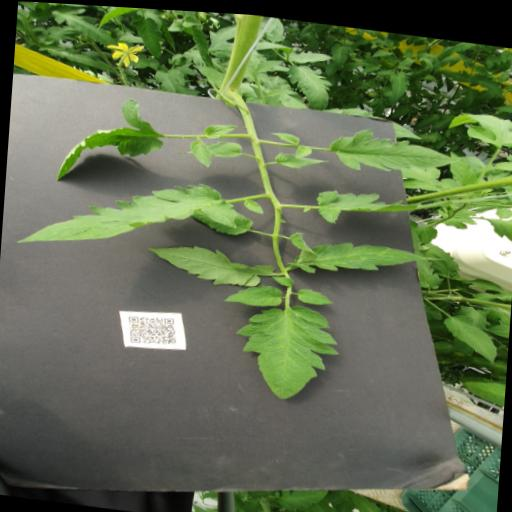Healthy: (16, 160, 238, 267), (231, 294, 341, 402), (56, 87, 162, 191), (286, 228, 445, 284), (327, 118, 461, 177), (314, 178, 450, 231), (146, 237, 276, 288), (440, 307, 500, 357), (445, 103, 512, 141), (285, 59, 332, 108), (126, 10, 164, 56), (224, 276, 282, 305), (456, 371, 506, 400), (274, 146, 328, 168), (446, 143, 478, 179), (152, 67, 187, 91), (288, 44, 332, 62), (188, 133, 213, 164), (387, 64, 411, 96), (296, 282, 334, 302), (328, 37, 354, 66), (202, 118, 238, 138), (289, 226, 318, 250), (256, 53, 283, 71), (470, 270, 504, 284), (268, 127, 300, 140), (486, 315, 510, 332), (270, 270, 295, 283), (294, 139, 312, 155), (490, 94, 512, 107), (172, 62, 196, 73), (370, 42, 392, 54), (494, 198, 512, 212), (493, 152, 512, 165)
